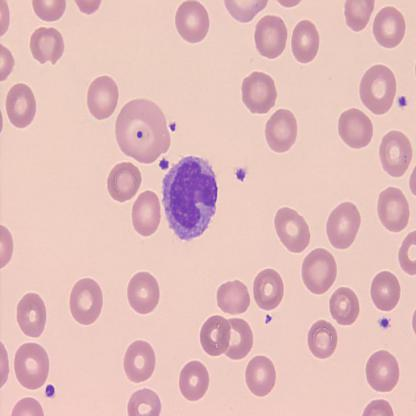Monocyte: (161, 152, 220, 243)
